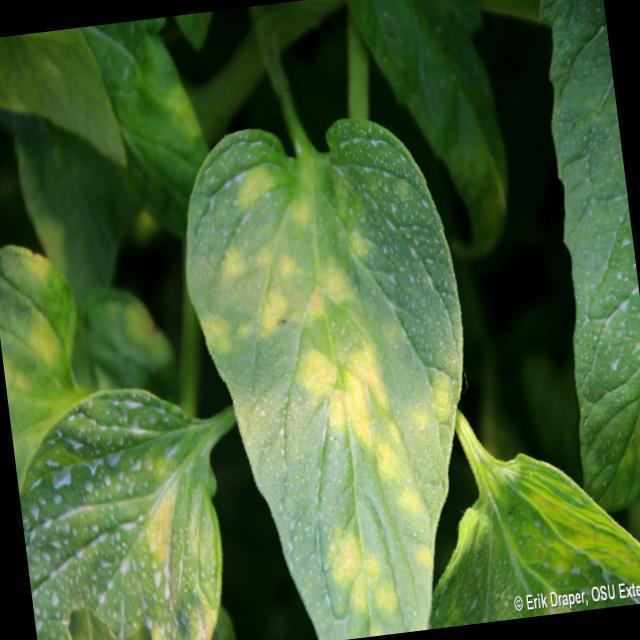Mosaic Virus: (186, 131, 487, 640)
